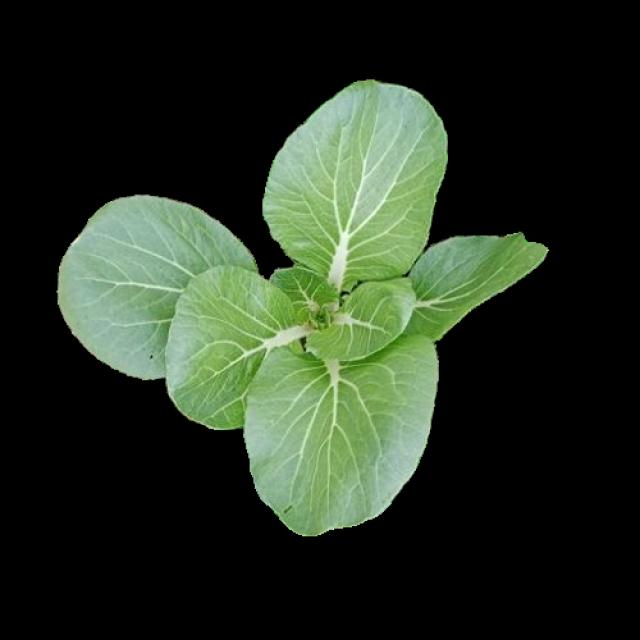healthy: (55, 78, 549, 533)
mature: (58, 81, 552, 535)
